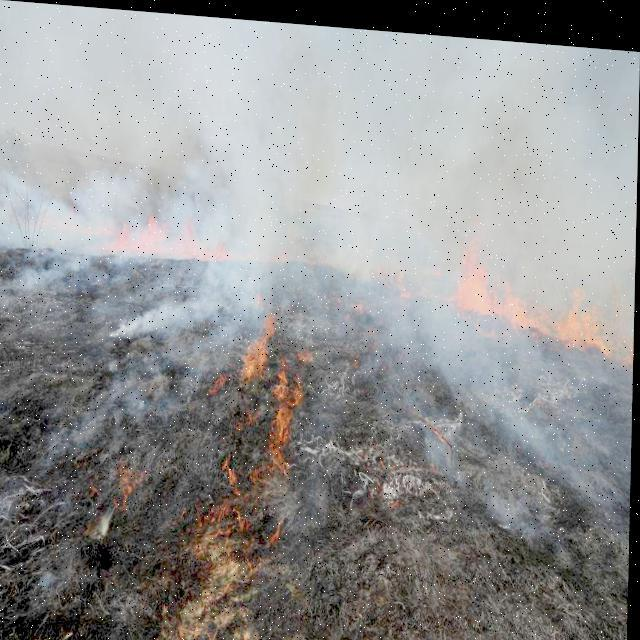Fire: (226, 289, 304, 556), (450, 226, 618, 342), (31, 204, 242, 264)
